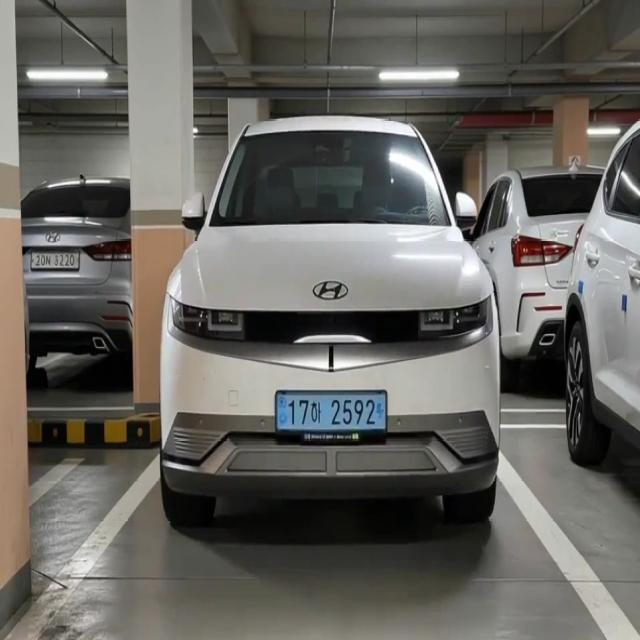car: (276, 391, 395, 441)
carev: (274, 387, 286, 442), (374, 388, 388, 434)
